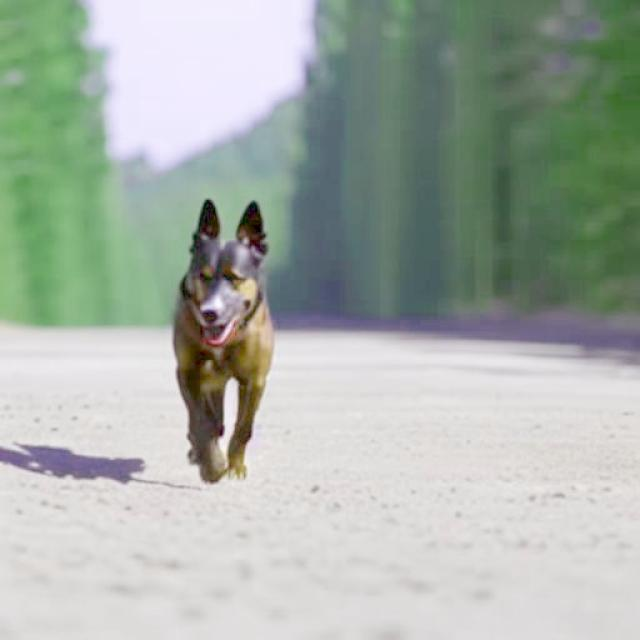Dog: (173, 197, 275, 484)
